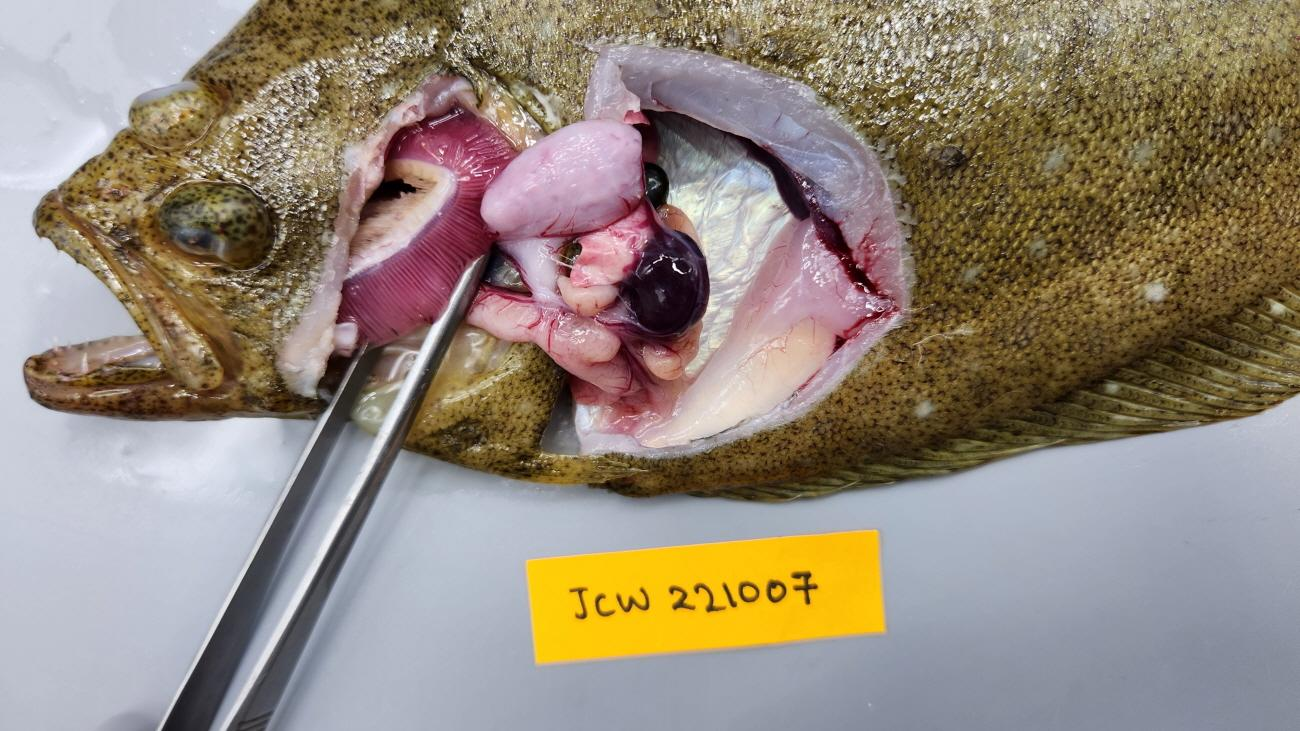POINN: (642, 319, 703, 381)
POSPN: (621, 225, 711, 342)
